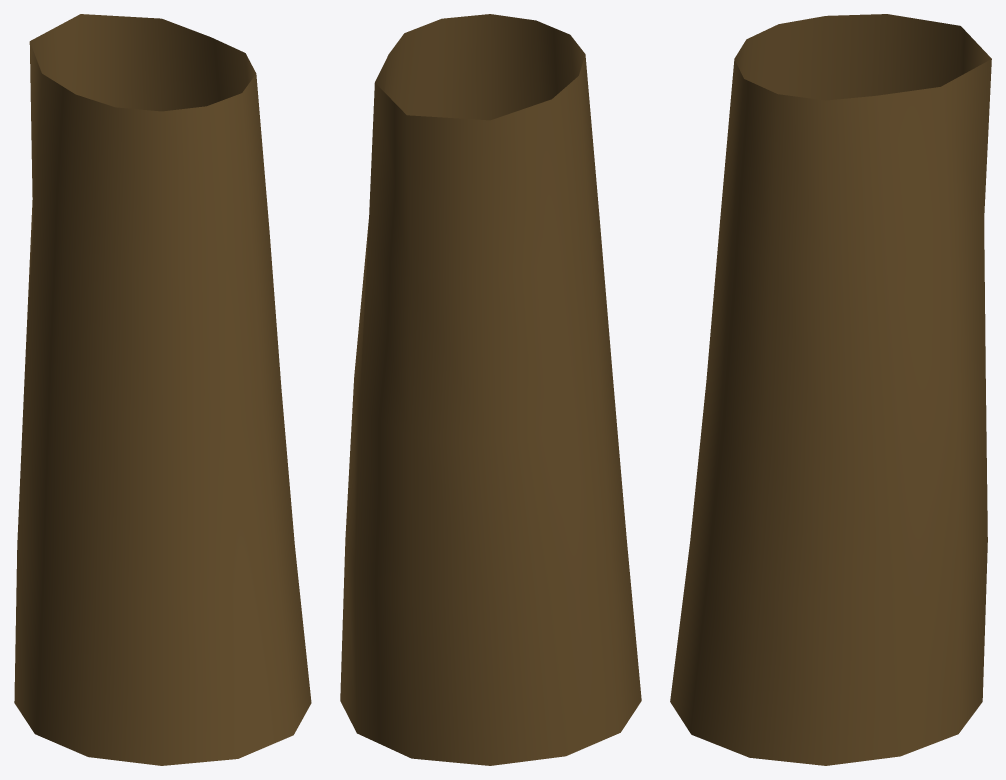
The model's file is mining_outfit_greave.L.glb.
The picture shows the model from 3 angles, left to right: view 1: azimuth 30°, elevation 25°; view 2: azimuth 150°, elevation 25°; view 3: azimuth 270°, elevation 25°; orthographic projection. The views are drawn at different scales.
Parts seen in each view (by area): view 1: mining_outfit_greave.L; view 2: mining_outfit_greave.L; view 3: mining_outfit_greave.L.
Boxes of the visible parts, x1,y1,x2,y2 form: mining_outfit_greave.L: (14, 14, 311, 765); mining_outfit_greave.L: (340, 14, 641, 765); mining_outfit_greave.L: (670, 14, 991, 765).
Bounding box in the file's own units: 0.1601 × 0.3767 × 0.1708.
